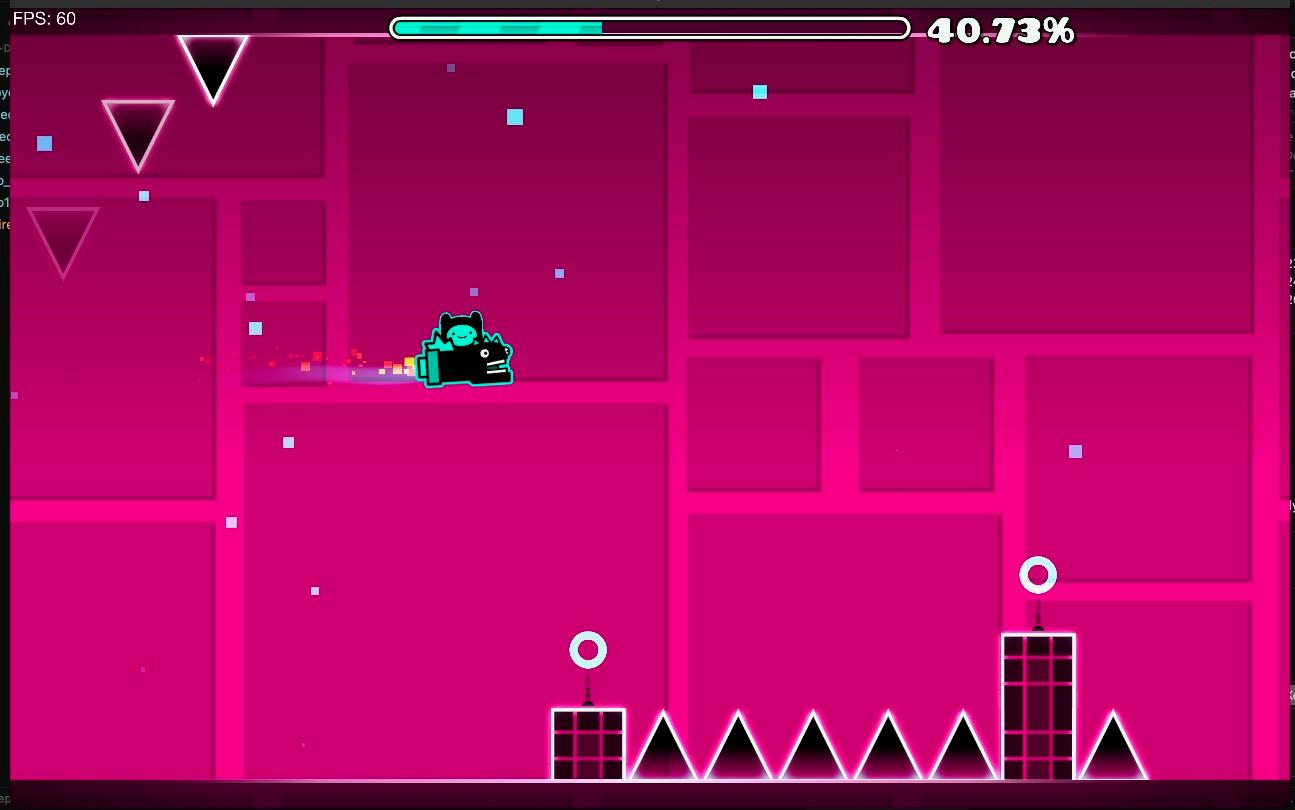block: (1001, 631, 1076, 782), (553, 709, 625, 784)
spike: (629, 711, 1000, 779), (1080, 710, 1148, 779)
